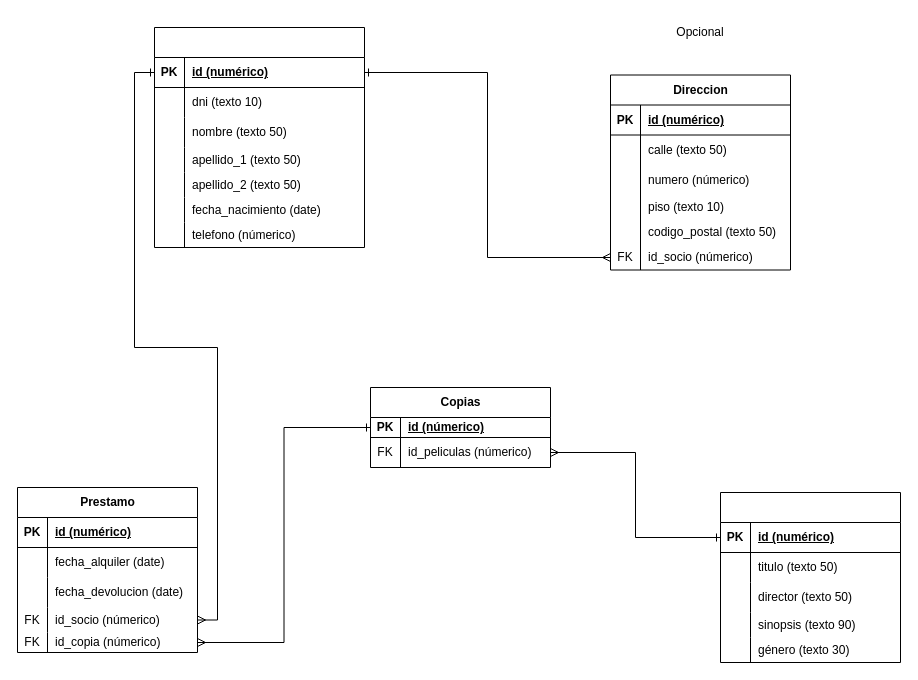
This 918x680 diagram has some shape labels left out. Each missing label, with the box of its shape:
Pelicula: (720, 492, 900, 662)
Socios: (154, 26, 364, 248)
